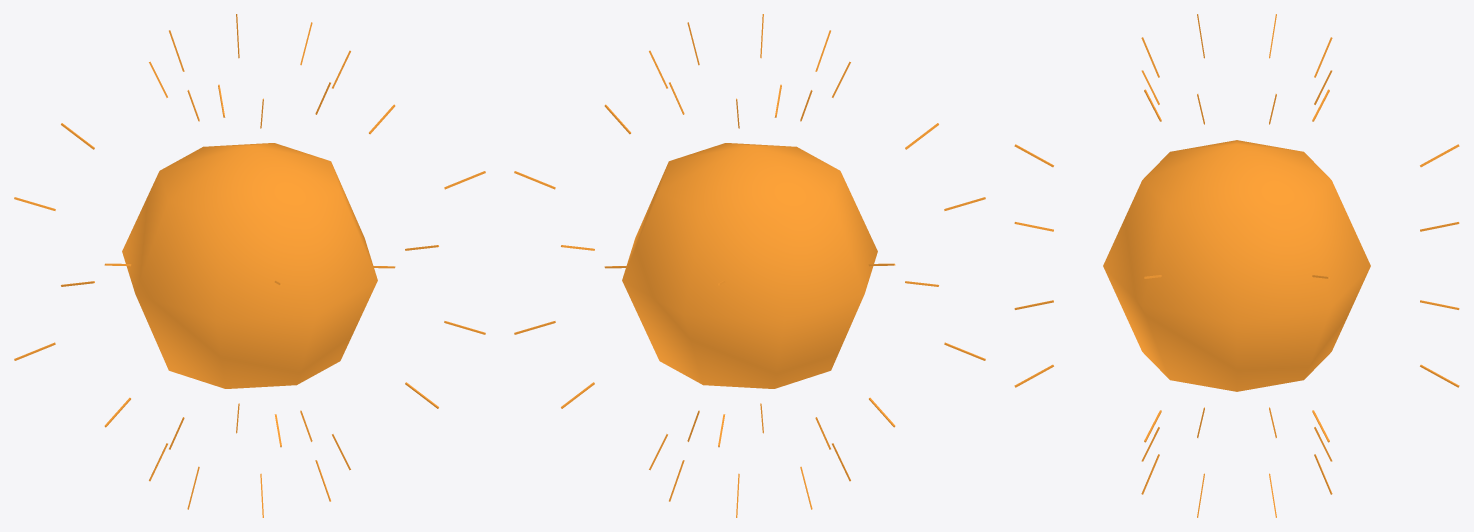
The model's file is light_point.glb.
The picture shows the model from 3 angles, left to right: view 1: azimuth 30°, elevation 25°; view 2: azimuth 150°, elevation 25°; view 3: azimuth 270°, elevation 25°; orthographic projection.
Parts seen in each view (by area): view 1: Sphere, Sphere.001; view 2: Sphere, Sphere.001; view 3: Sphere, Sphere.001.
Boxes of the visible parts, box(x1,y1,x2,y2) form: Sphere: box(122, 143, 377, 388); Sphere.001: box(14, 14, 485, 517); Sphere: box(622, 143, 877, 388); Sphere.001: box(514, 14, 985, 517); Sphere: box(1103, 140, 1370, 391); Sphere.001: box(1014, 14, 1459, 517).
Bounding box in the file's own units: 3.32 × 3.5 × 3.32.
